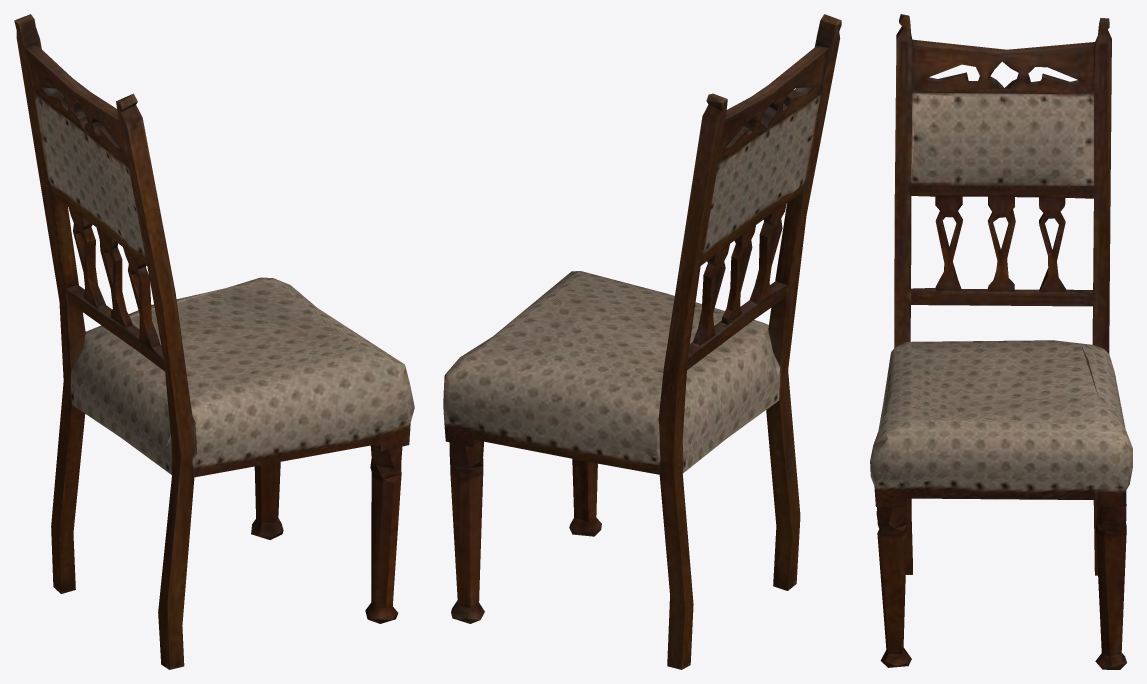
File: chair-wooden-a.lod1.glb
3 renders of one model, left to right at view 1: azimuth 30°, elevation 25°; view 2: azimuth 150°, elevation 25°; view 3: azimuth 270°, elevation 25°, orthographic. The views are drawn at different scales.
Parts seen in each view (by area): view 1: chair-wooden-a; view 2: chair-wooden-a; view 3: chair-wooden-a.
Part boxes in pixels (box(x1,y1,x2,y2)): chair-wooden-a: box(14, 14, 414, 669); chair-wooden-a: box(443, 14, 841, 669); chair-wooden-a: box(870, 14, 1132, 669).
Bounding box in the file's own units: 0.5509 × 1.08 × 0.4787.
1 material, 1 textured.
